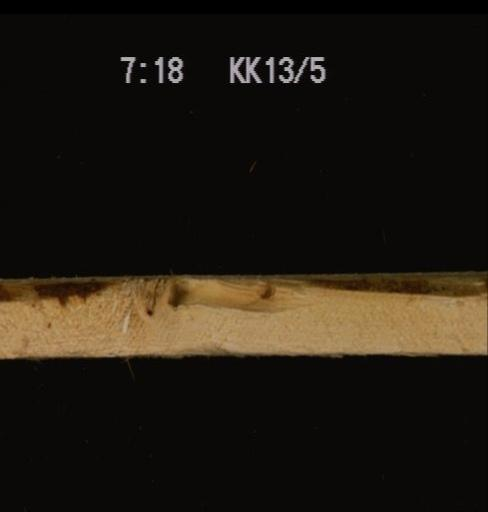wave: (0, 269, 486, 311)
